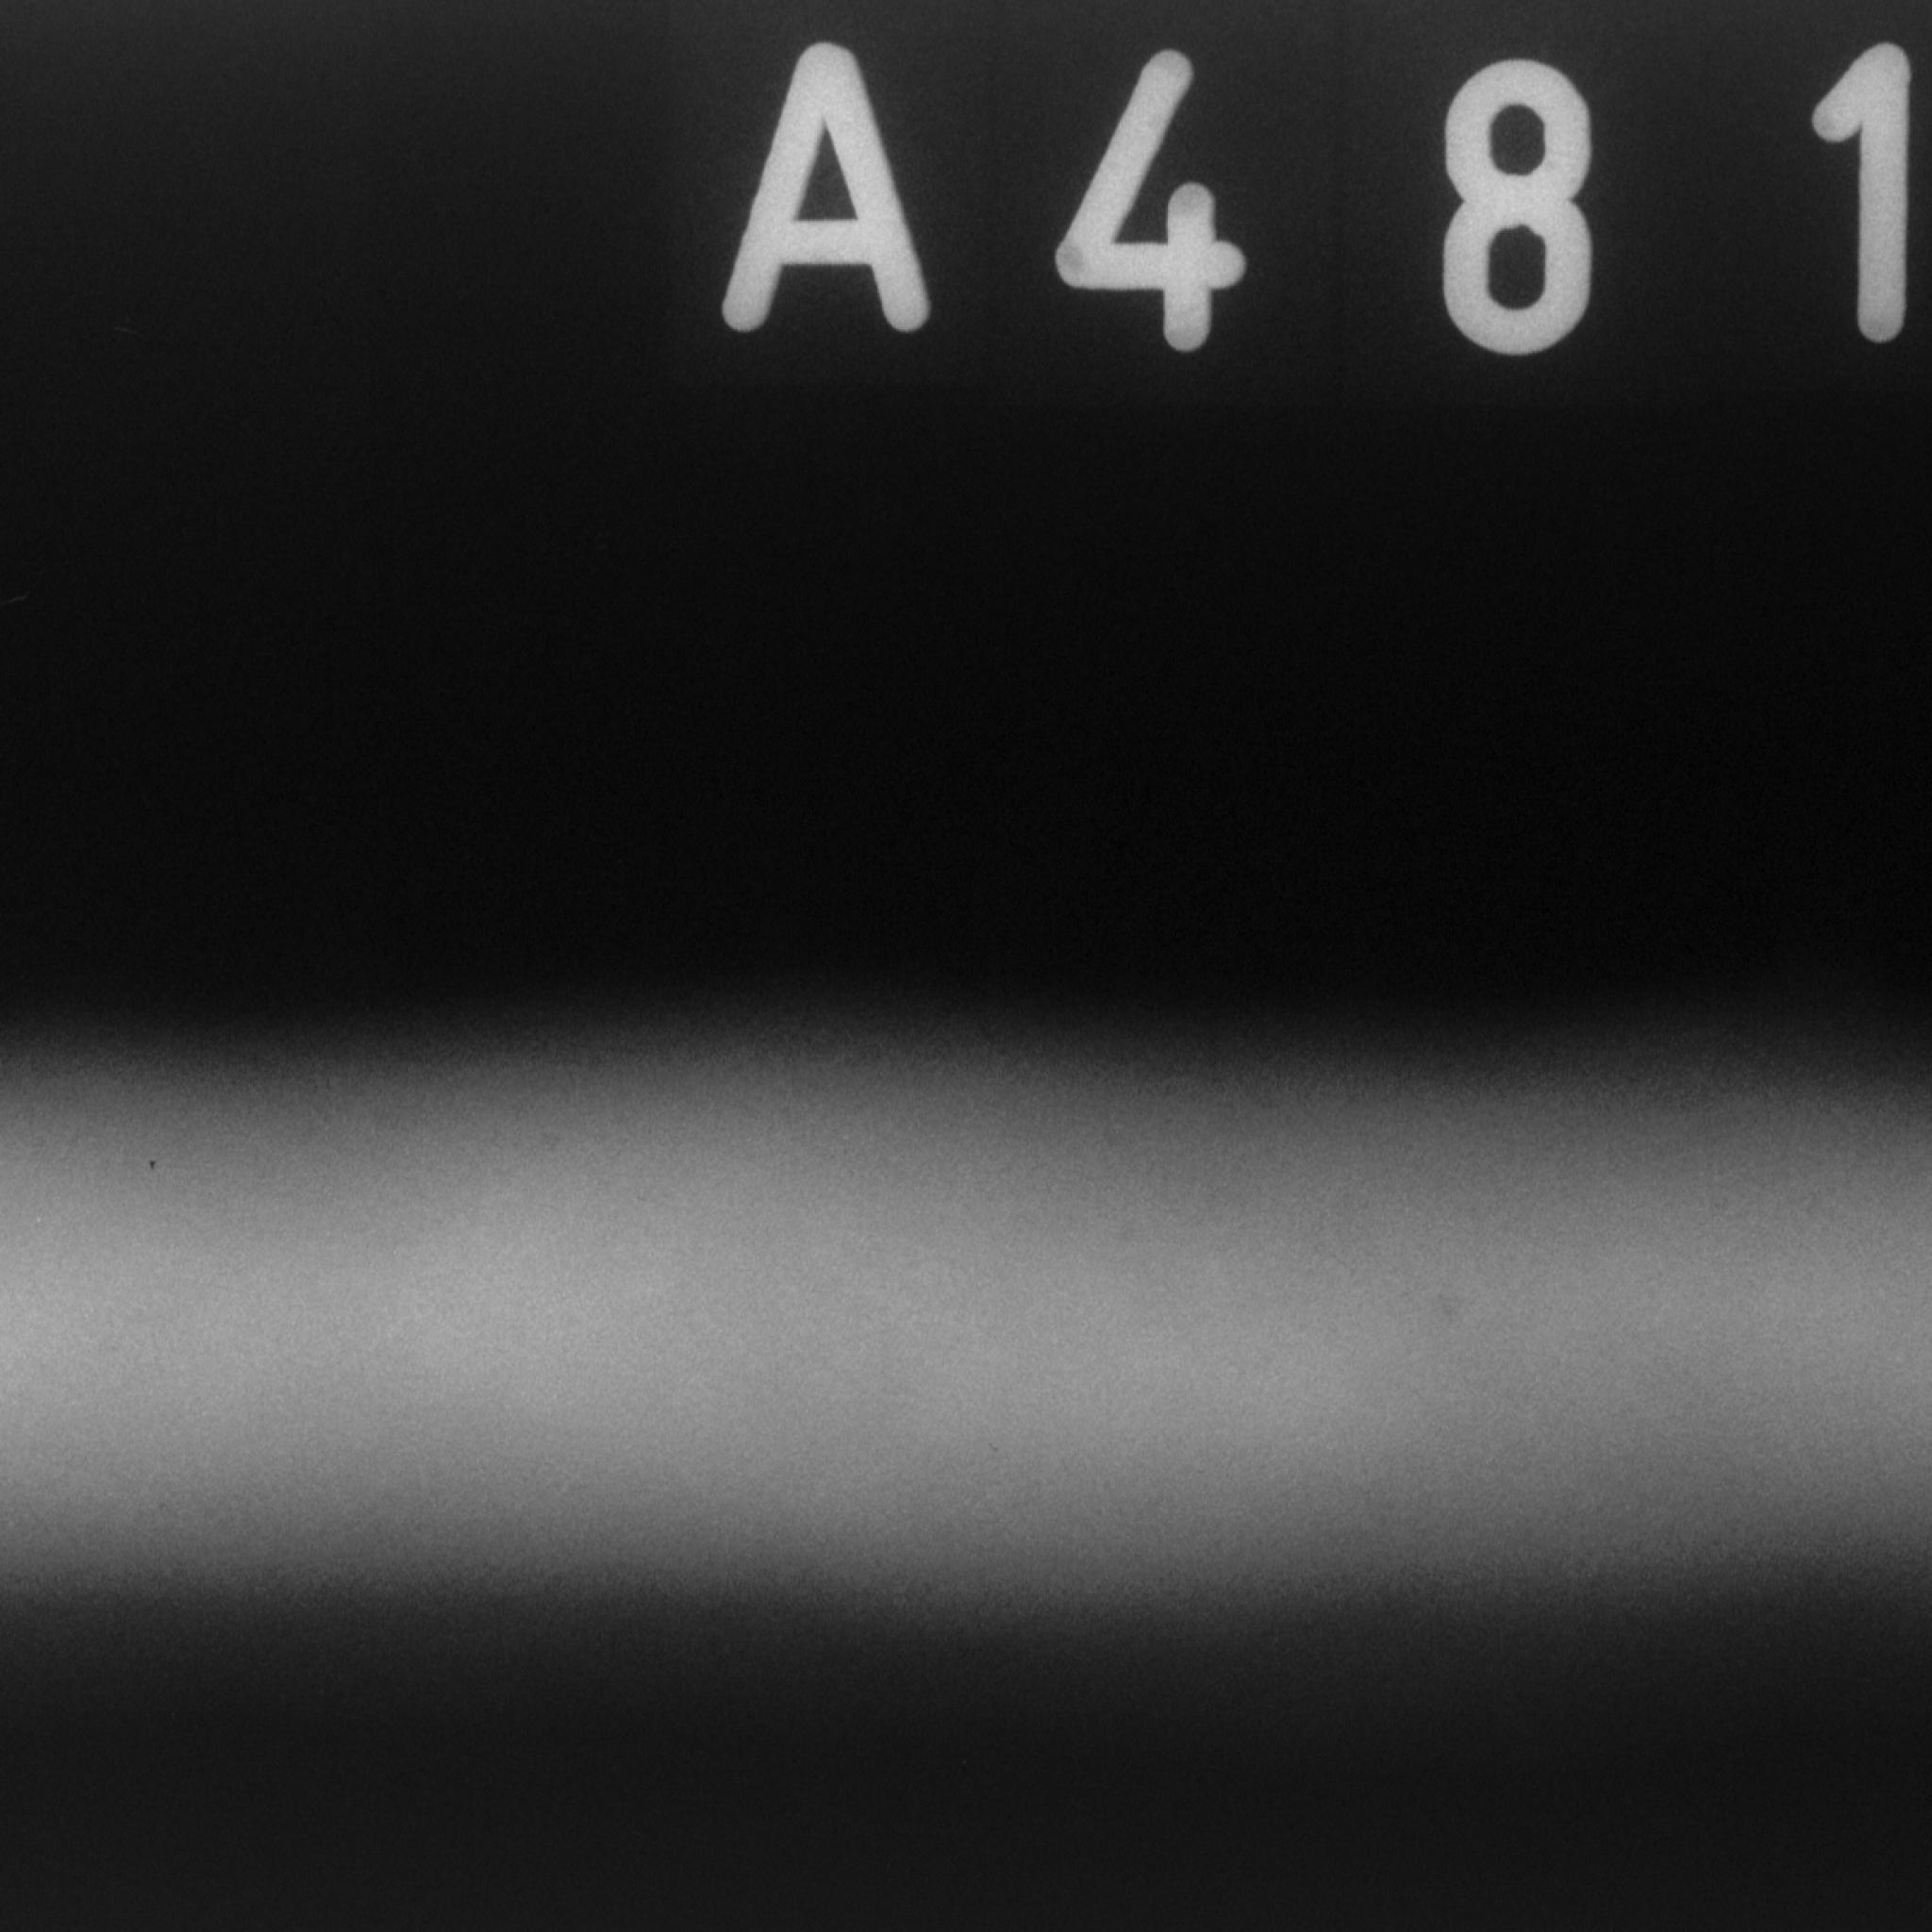PO: (136, 1146, 173, 1180)
